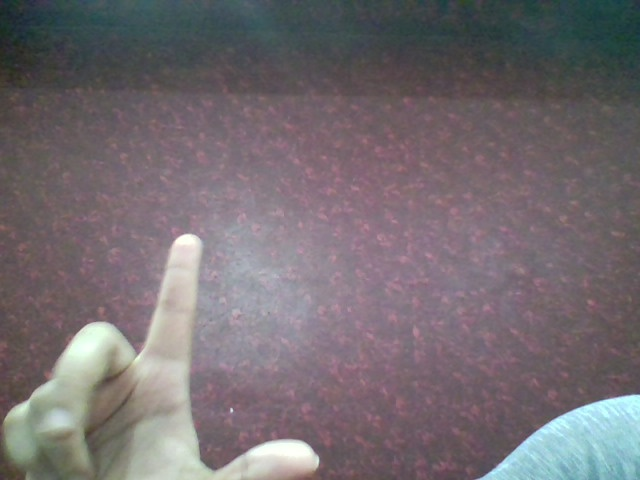l: (1, 230, 333, 480)
